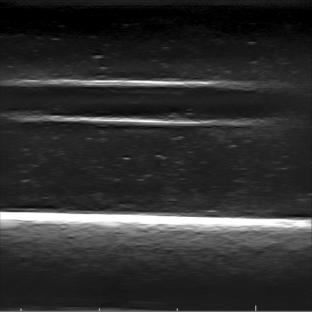vessel: (4, 78, 293, 128)
